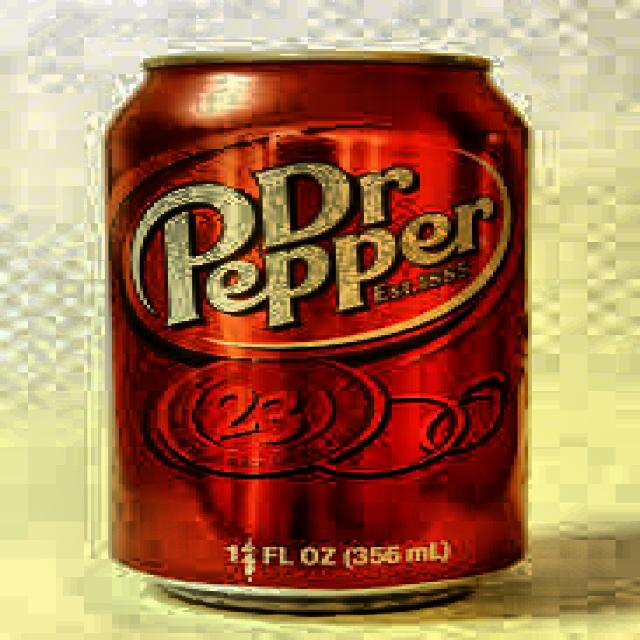can: (89, 38, 557, 626)
